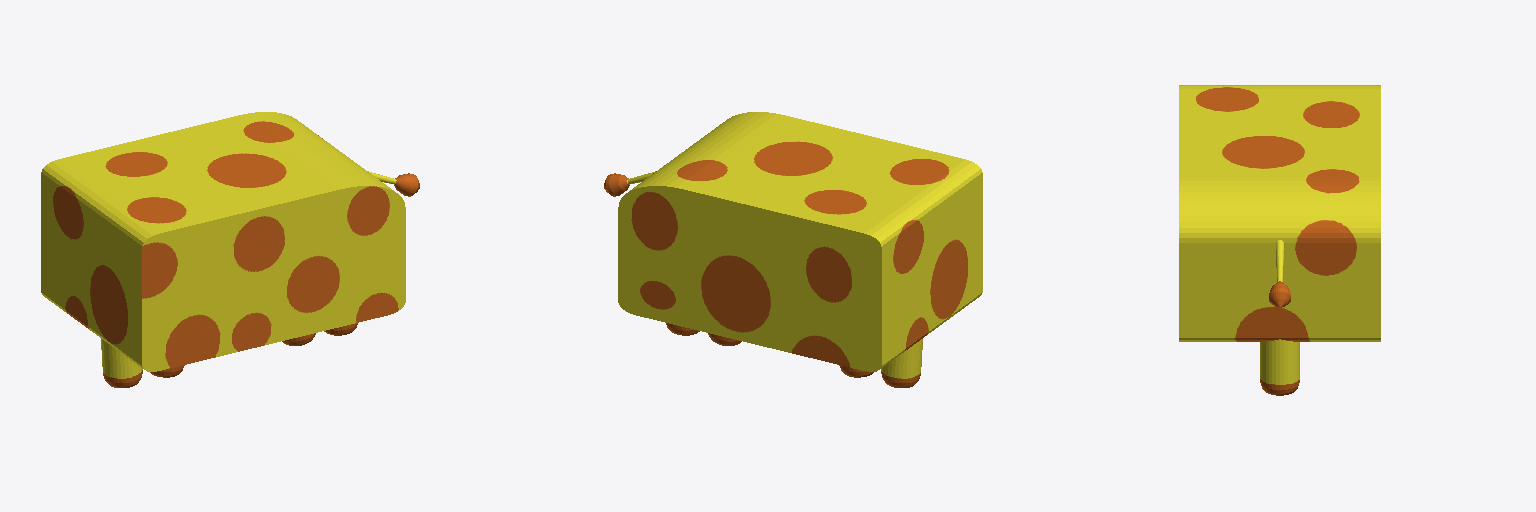
3 views of the same model, side by side, from view 1: azimuth 30°, elevation 25°; view 2: azimuth 150°, elevation 25°; view 3: azimuth 270°, elevation 25° (orthographic).
Parts seen in each view (by area): view 1: 円柱.001; view 2: 円柱.001; view 3: 円柱.001.
Part boxes in pixels (x1,y1,x2,y2): 円柱.001: (41, 112, 419, 387); 円柱.001: (604, 112, 982, 387); 円柱.001: (1179, 85, 1380, 395).
Bounding box in the file's own units: 3.74 × 2.08 × 2.
Materials: 1 (1 with a texture image).